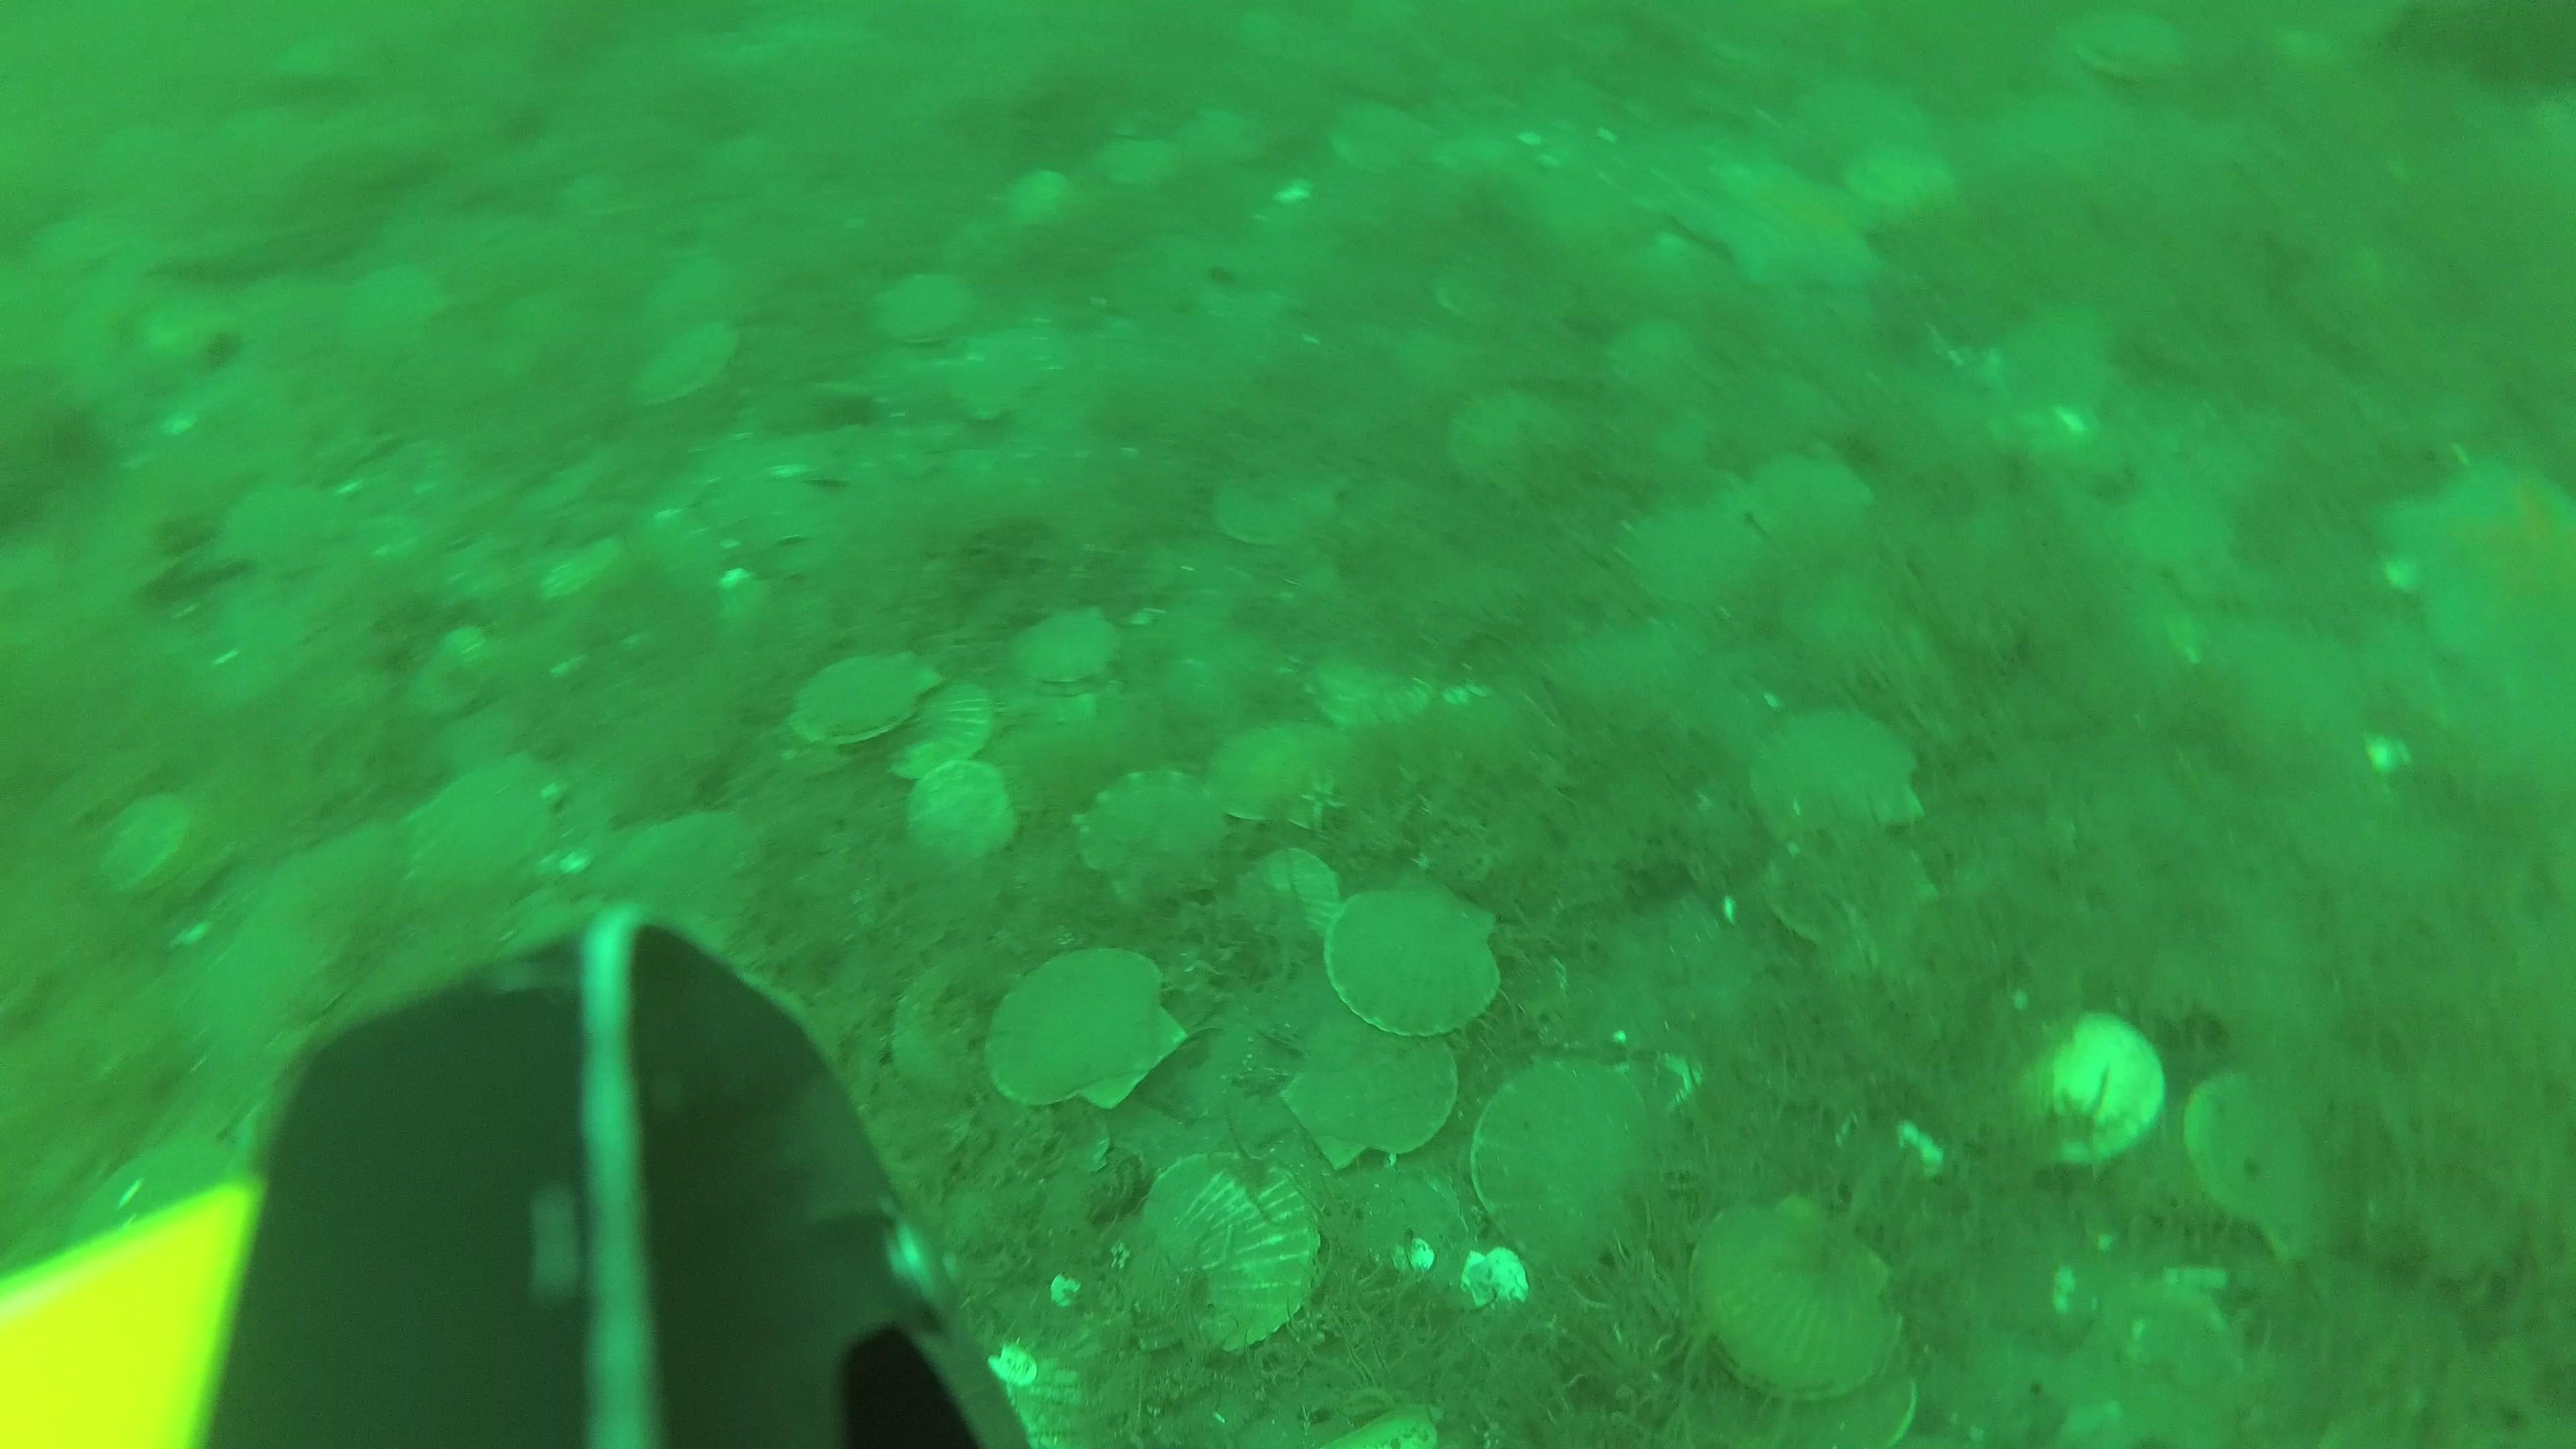scallop: (1690, 1192, 1904, 1408), (1467, 1058, 1672, 1283), (1122, 1145, 1327, 1359), (984, 941, 1189, 1113), (2185, 1062, 2350, 1263), (1318, 881, 1518, 1046), (1277, 1016, 1468, 1178), (2001, 1008, 2173, 1177), (1746, 708, 1930, 844), (1072, 764, 1235, 915), (405, 750, 564, 895), (885, 941, 1031, 1097), (1766, 823, 1941, 948), (1207, 717, 1371, 835), (780, 648, 947, 754), (1624, 488, 1764, 614), (1752, 449, 1882, 568), (212, 483, 357, 587), (1762, 1359, 1925, 1449), (1451, 377, 1571, 499), (1997, 294, 2121, 409), (1302, 637, 1449, 732), (94, 789, 209, 909), (945, 320, 1067, 428), (895, 754, 1021, 858), (1205, 469, 1359, 554), (1001, 600, 1134, 697), (886, 678, 1001, 787), (1106, 226, 1226, 327), (632, 315, 750, 414), (1599, 311, 1709, 405), (2070, 9, 2199, 88), (1249, 844, 1350, 943), (1330, 94, 1435, 184), (1858, 140, 1964, 221), (869, 267, 971, 350), (991, 165, 1083, 232), (1095, 122, 1178, 196)
starfish: (2380, 441, 2576, 699), (1677, 145, 1882, 301)
